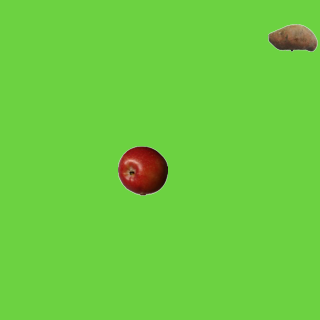Apple Braeburn: (117, 145, 167, 195)
Potato Sweet: (267, 12, 317, 62)
